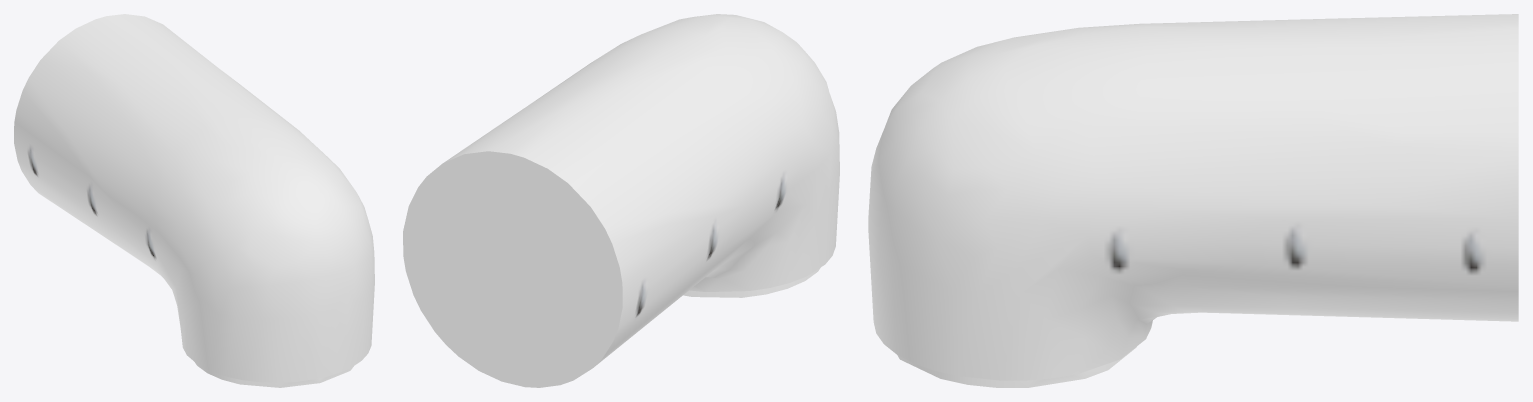
Rendered from link_bicep.3obj.obj.glb.
3 renders of one model, left to right at view 1: azimuth 30°, elevation 25°; view 2: azimuth 150°, elevation 25°; view 3: azimuth 270°, elevation 25°, orthographic. The views are drawn at different scales.
Visible parts, largest first — view 1: link_bicep.3obj.obj; view 2: link_bicep.3obj.obj; view 3: link_bicep.3obj.obj.
Boxes of the visible parts, left/top/right/bottom form: link_bicep.3obj.obj: left=14, top=14, right=374, bottom=387; link_bicep.3obj.obj: left=403, top=14, right=839, bottom=387; link_bicep.3obj.obj: left=868, top=14, right=1518, bottom=387.
Bounding box in the file's own units: 0.1121 × 0.1233 × 0.237.
1 material, 1 textured.
